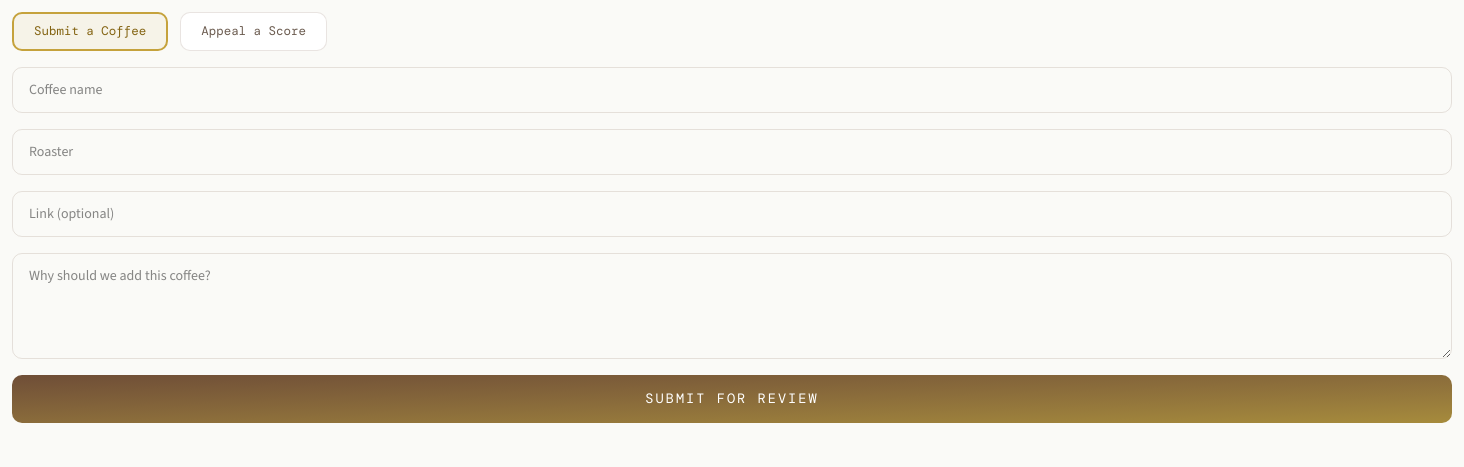
Test: SubmitForm › rejects a link that isn't a web address
Type "Gesha Lot 74" into the field labelled "Coffee name" at (732, 90), box top-left (12, 67), bottom-right (1452, 113)
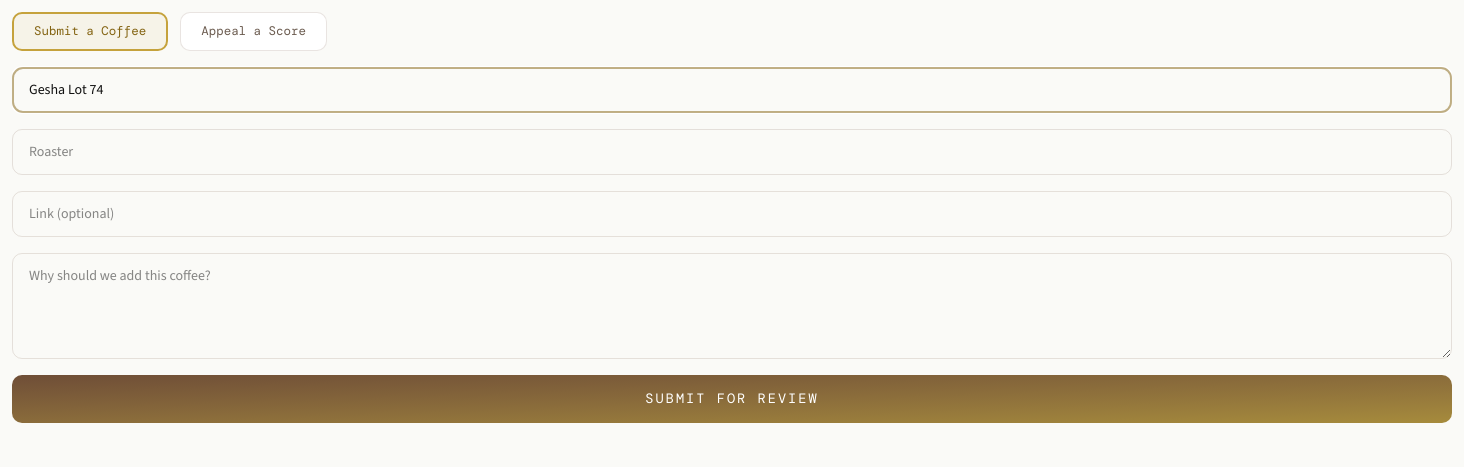
Type "geshacoffee.com" into the field labelled "Link (optional)" at (732, 214), box top-left (12, 191), bottom-right (1452, 237)
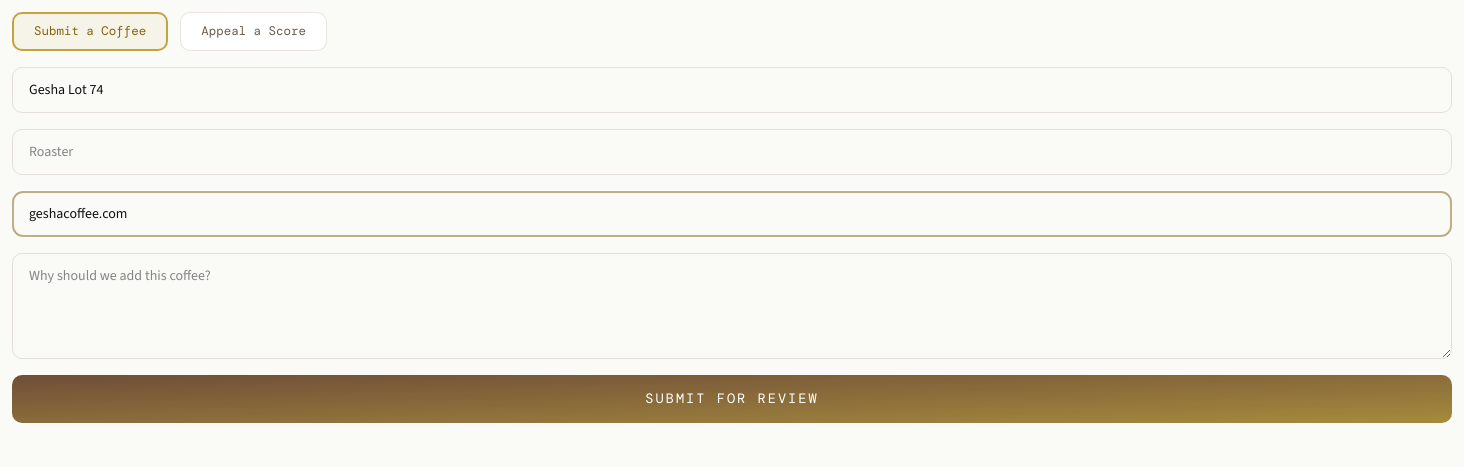
Click the button "Submit for Review" at (732, 399), box top-left (12, 375), bottom-right (1452, 423)
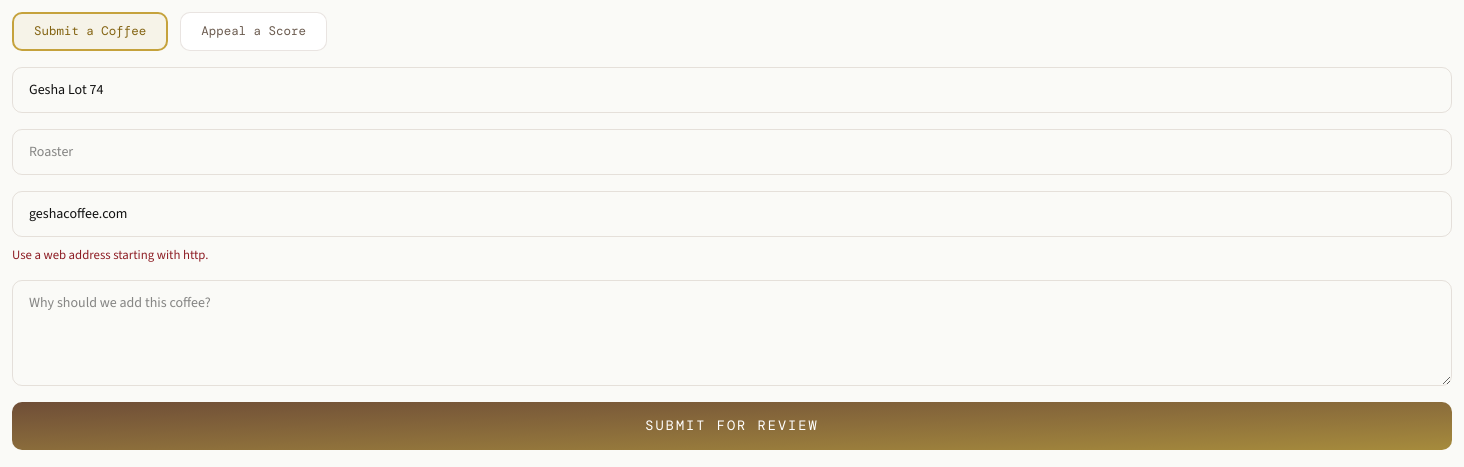
Expected: the text "Use a web address starting with http." is shown, top-left (12, 246), bottom-right (208, 263)
